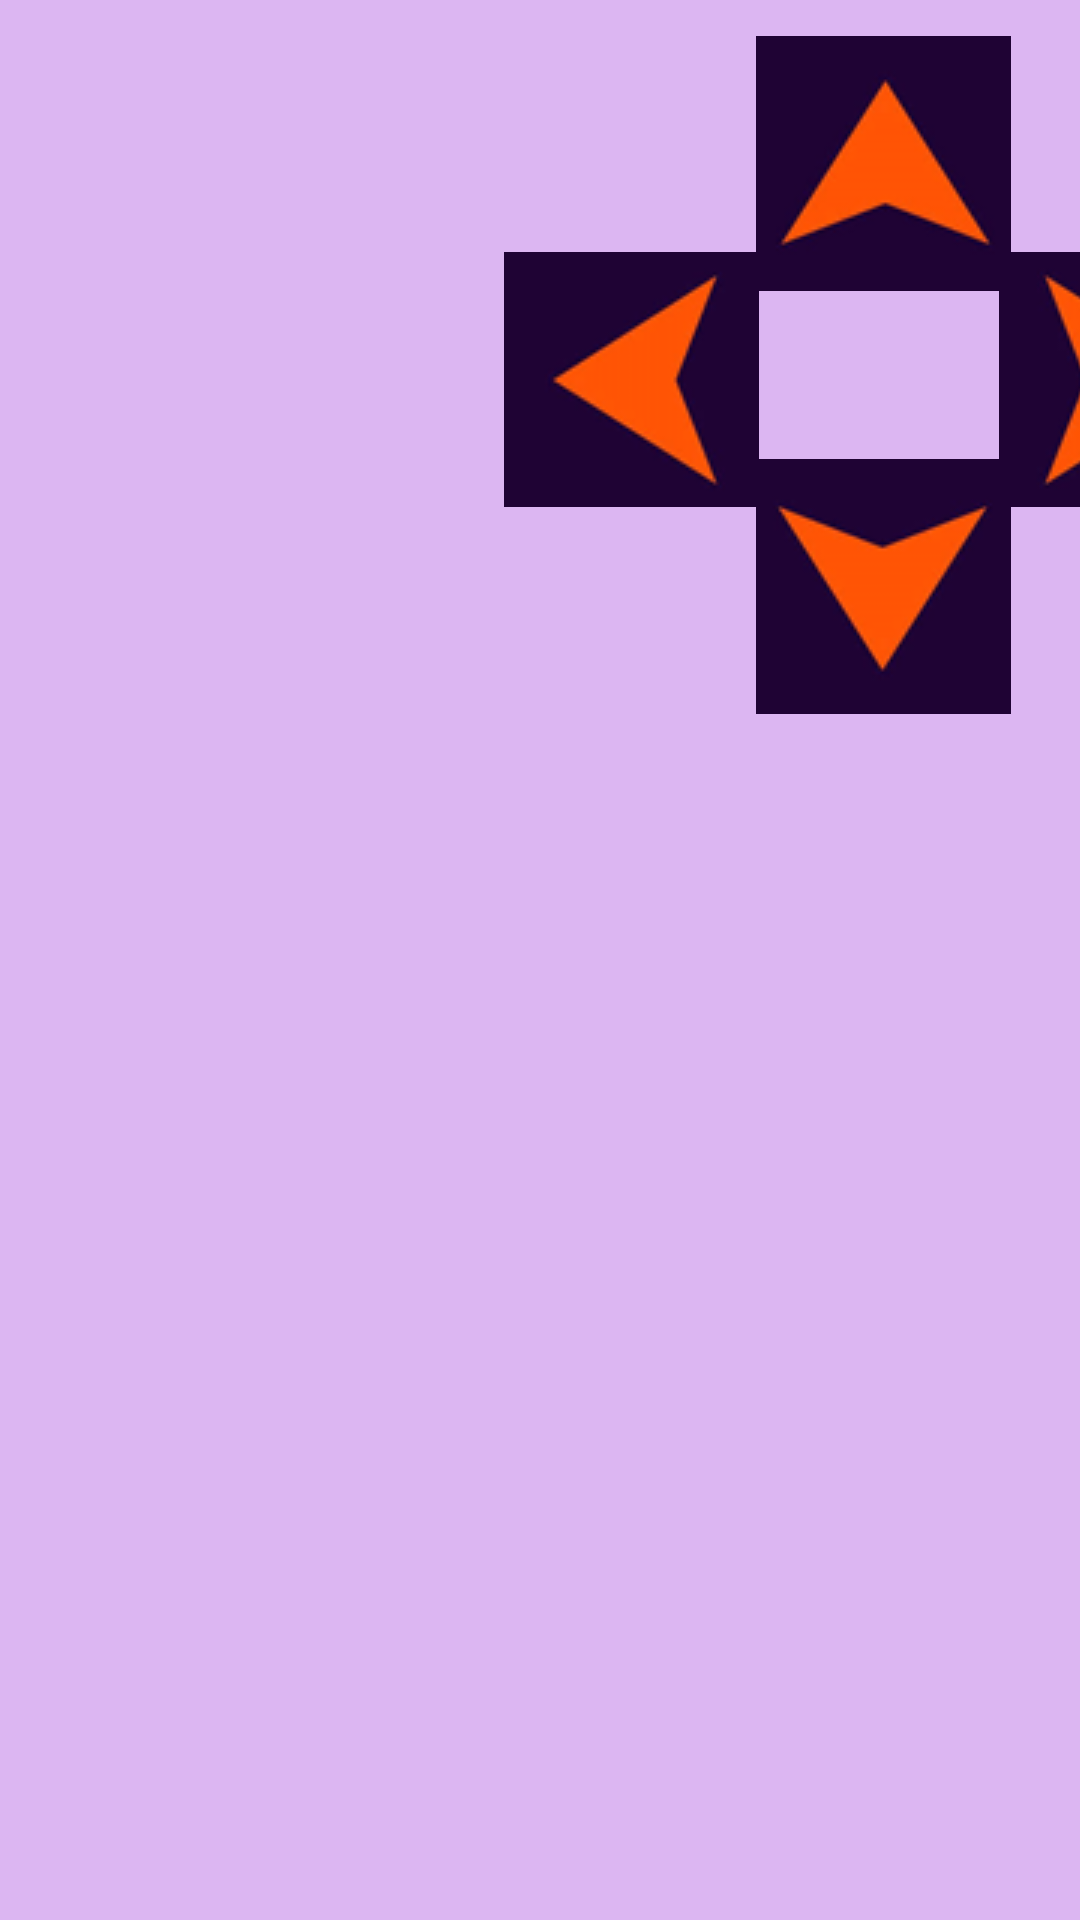

Locate icon controls on the screen. Image size 1080px x 1920px, boxes as [left=x1, top=y1, right=x2, bottom=y2].
left arrow: [left=504, top=252, right=759, bottom=507]
